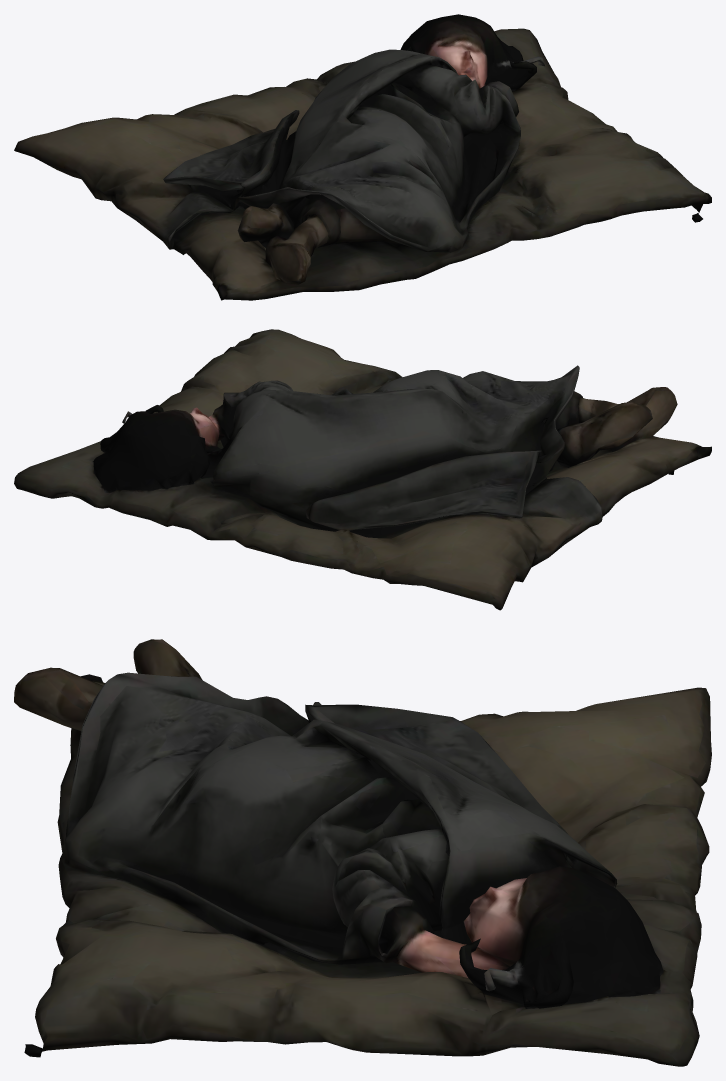
The model's file is sleeper.glb.
The picture shows the model from 3 angles, top to bottom: view 1: azimuth 30°, elevation 25°; view 2: azimuth 150°, elevation 25°; view 3: azimuth 270°, elevation 25°; orthographic projection. The views are drawn at different scales.
Parts seen in each view (by area): view 1: geometry_0; view 2: geometry_0; view 3: geometry_0.
Boxes of the visible parts, left/top/right/bottom form: geometry_0: left=14, top=14, right=711, bottom=300; geometry_0: left=14, top=329, right=711, bottom=610; geometry_0: left=14, top=639, right=711, bottom=1066.
Bounding box in the file's own units: 0.9985 × 0.1967 × 0.7956.
1 material, 1 textured.
